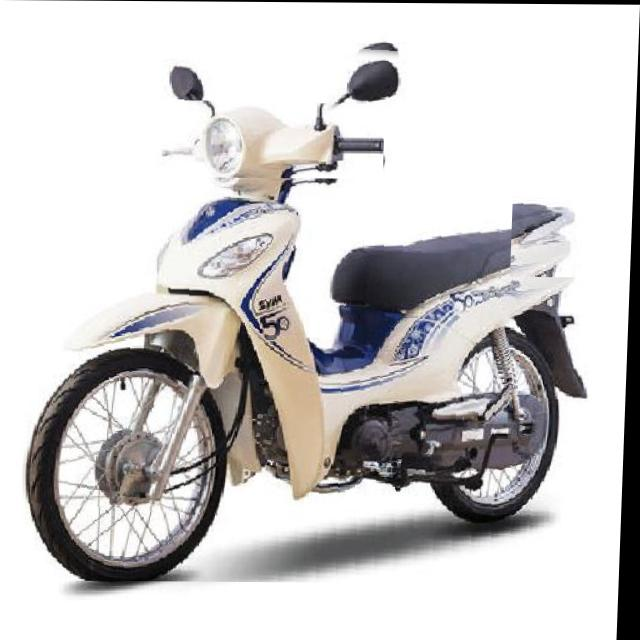All: (17, 29, 605, 584)
Head: (149, 99, 386, 178)
Tail: (512, 192, 587, 276)
